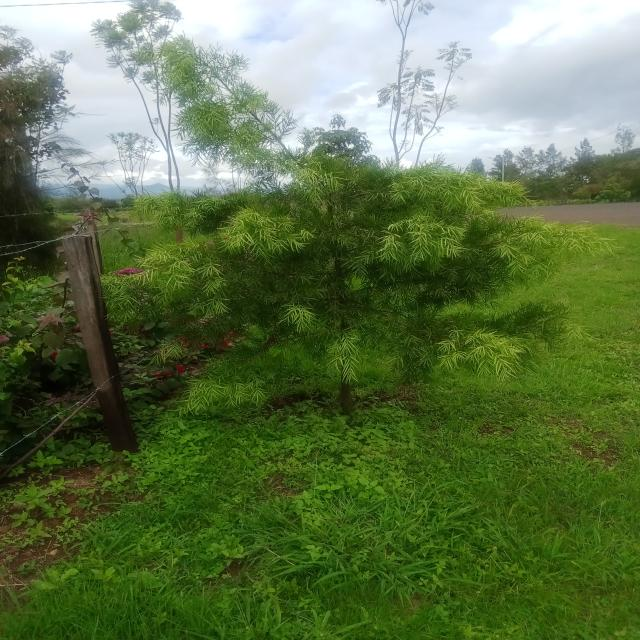Podocarpus falcatus: (147, 29, 606, 408)
